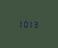one: (28, 19, 32, 28), (18, 19, 22, 27)
three: (33, 20, 37, 28)
zero: (23, 19, 27, 27)
